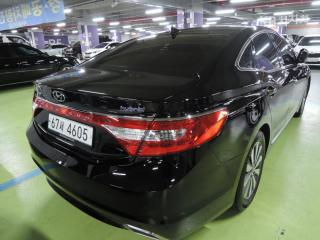0: (76, 125, 83, 139)
4: (65, 123, 72, 135)
5: (83, 127, 89, 141)
6: (71, 125, 77, 137), (50, 117, 56, 128)
7: (55, 118, 59, 131)
서: (59, 120, 65, 131)
